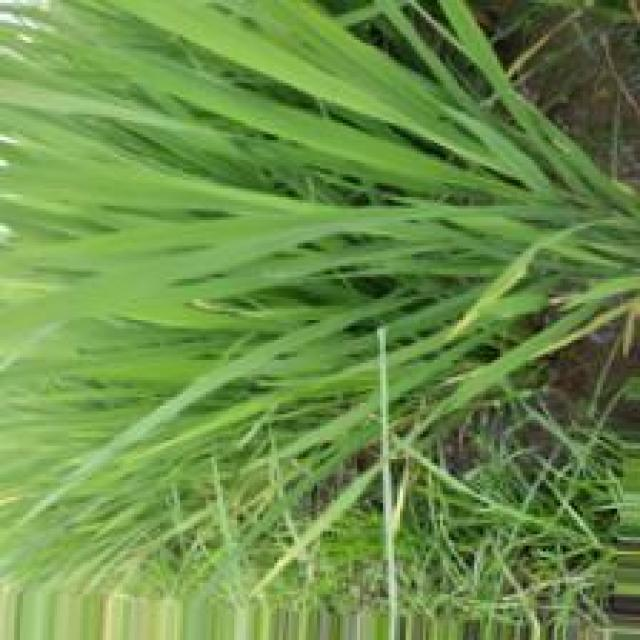HealthyLeaf: (268, 107, 413, 173), (181, 12, 287, 69), (117, 226, 212, 249)
